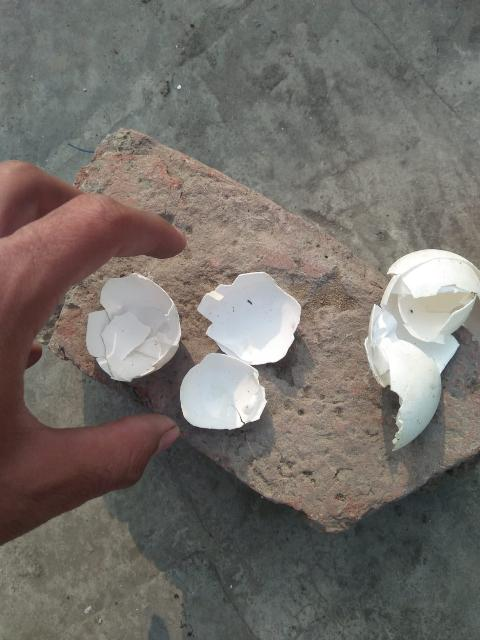Roto: (364, 248, 479, 452), (85, 272, 181, 383), (196, 270, 302, 366), (178, 352, 267, 431)
